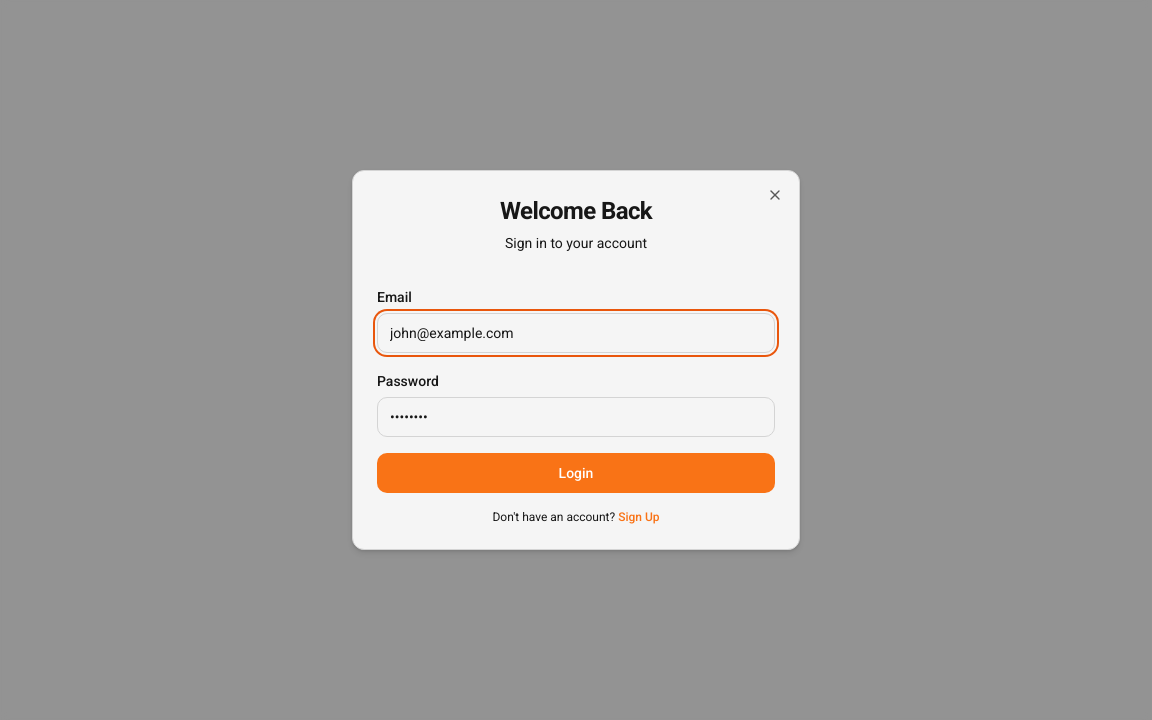
Scenario: LoginDialog Component › TC-L03: should show validation error for empty email
Click the button "Login" at point(576, 473), box [377,453,775,493]
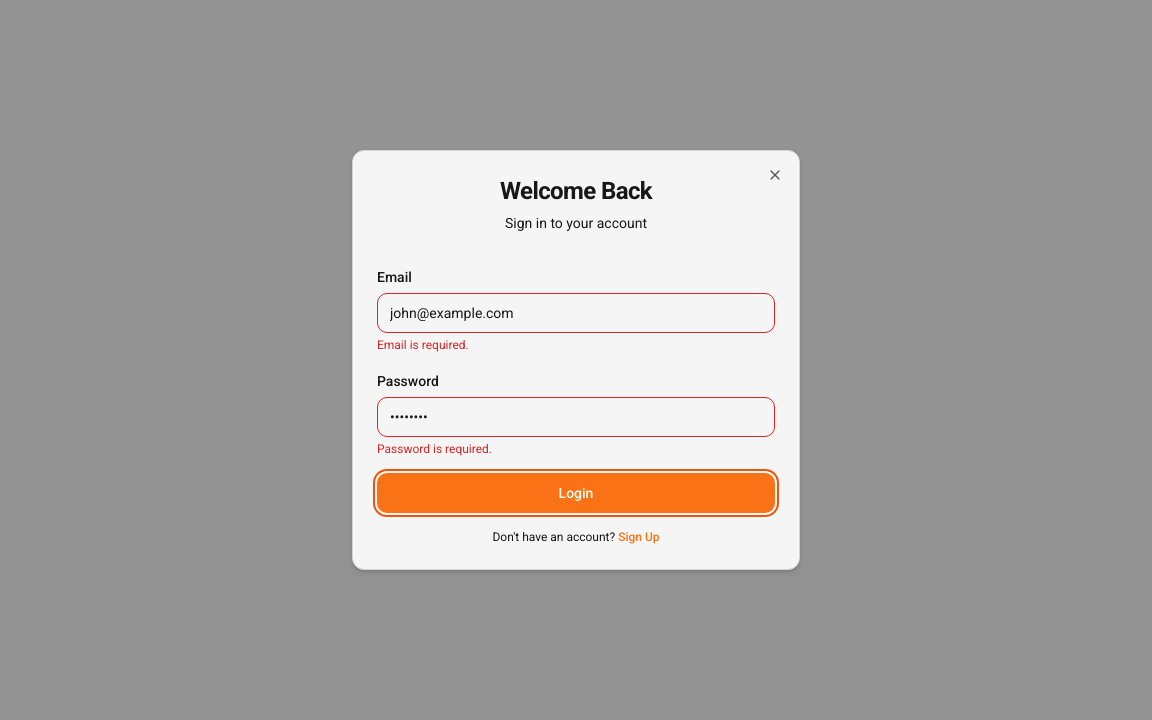
Check: the text "Email is required." is shown, box [377,338,469,352]
